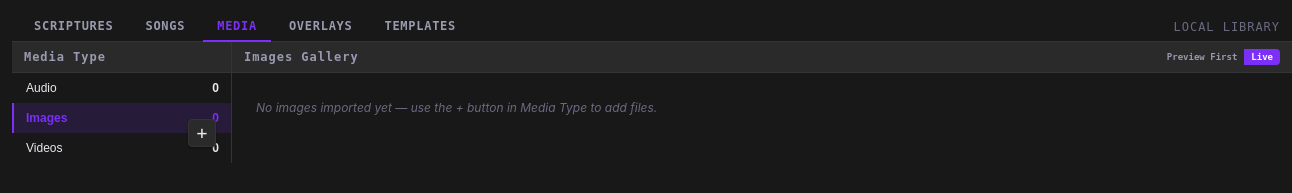
Test: media library tab › keeps a new video out of the gallery until its managed file is ready
This screenshot has width=1292, height=193.
Click the button "+" at (202,133), box [188,119,216,147]
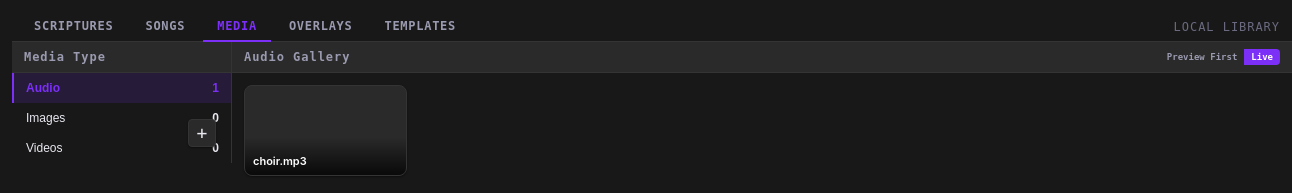
Click the button "Videos 0" at (122,148), box [12,133,231,163]
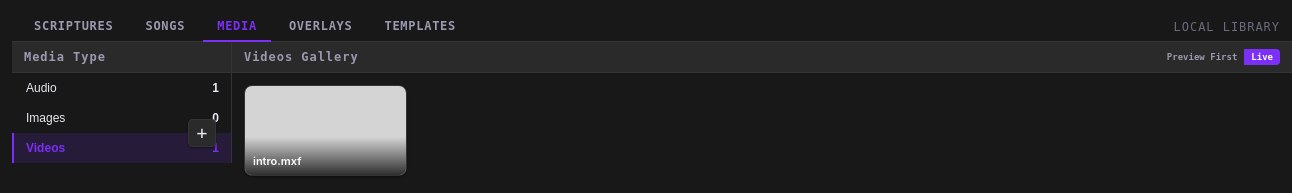
Now the text "intro.mxf" is shown, box [245,137,406,176]
